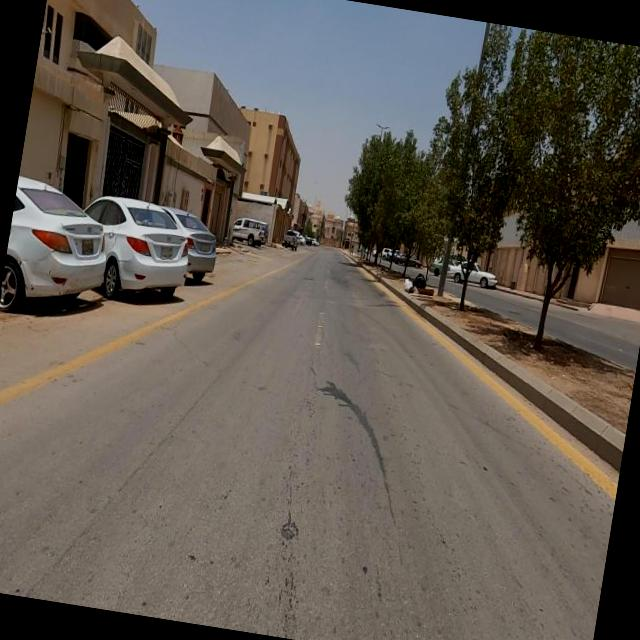debris: (378, 240, 458, 328)
